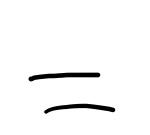eqv: (28, 73, 115, 114)
